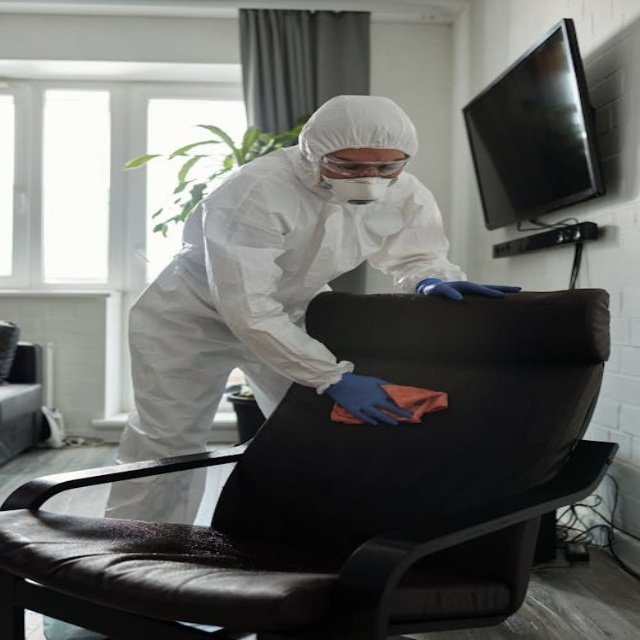Gafas: (317, 153, 409, 179)
Guantes: (325, 372, 412, 426), (416, 277, 521, 301)
Mascara: (321, 168, 398, 205)
